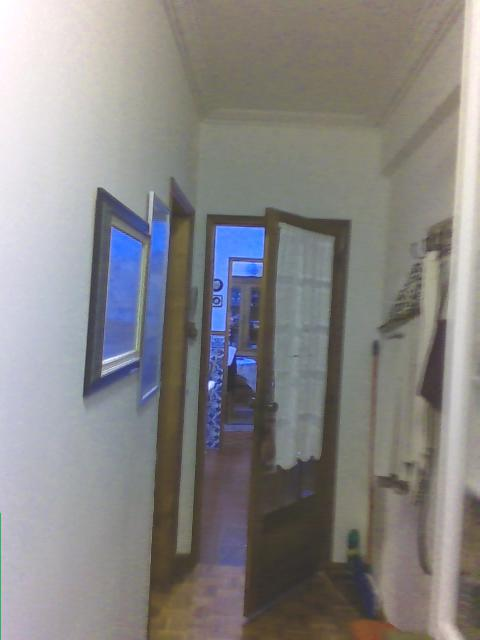semi_door: (190, 204, 352, 623)
